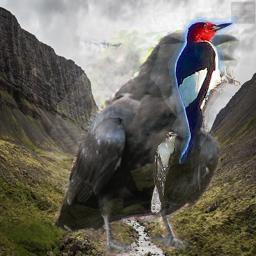Crow: (51, 30, 240, 256)
Cuckoo: (150, 131, 180, 213)
Woodpecker: (162, 11, 241, 164)
